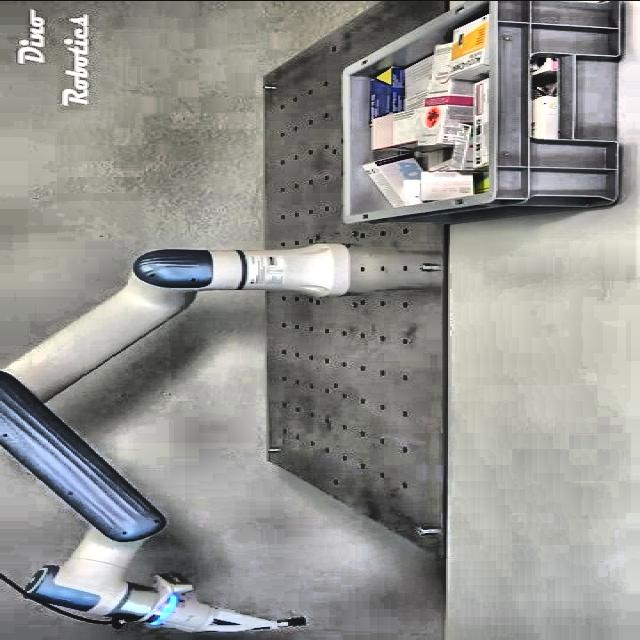robot: (0, 242, 350, 633)
